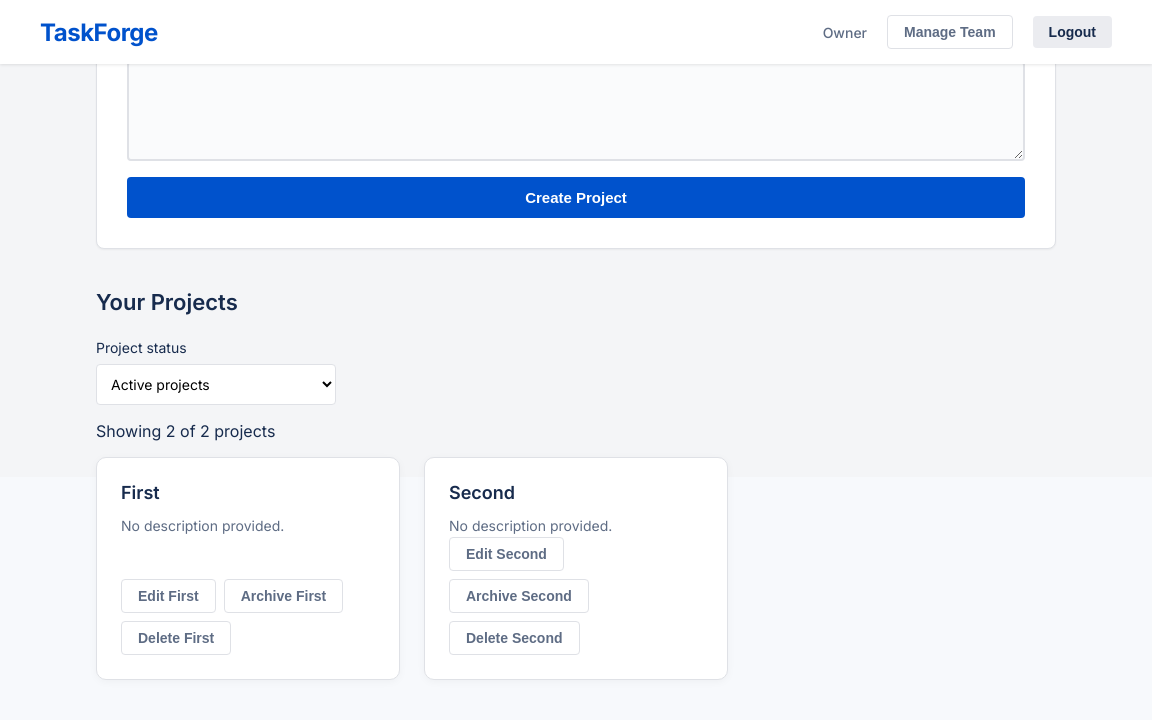
Test case: does not duplicate a task when its create response arrives during a later visit
The width and height of the screenshot is (1152, 720).
(page scrolled)
Click the button with aria-label "Open First" at point(140, 492), box [121,482,160,503]
(page scrolled)
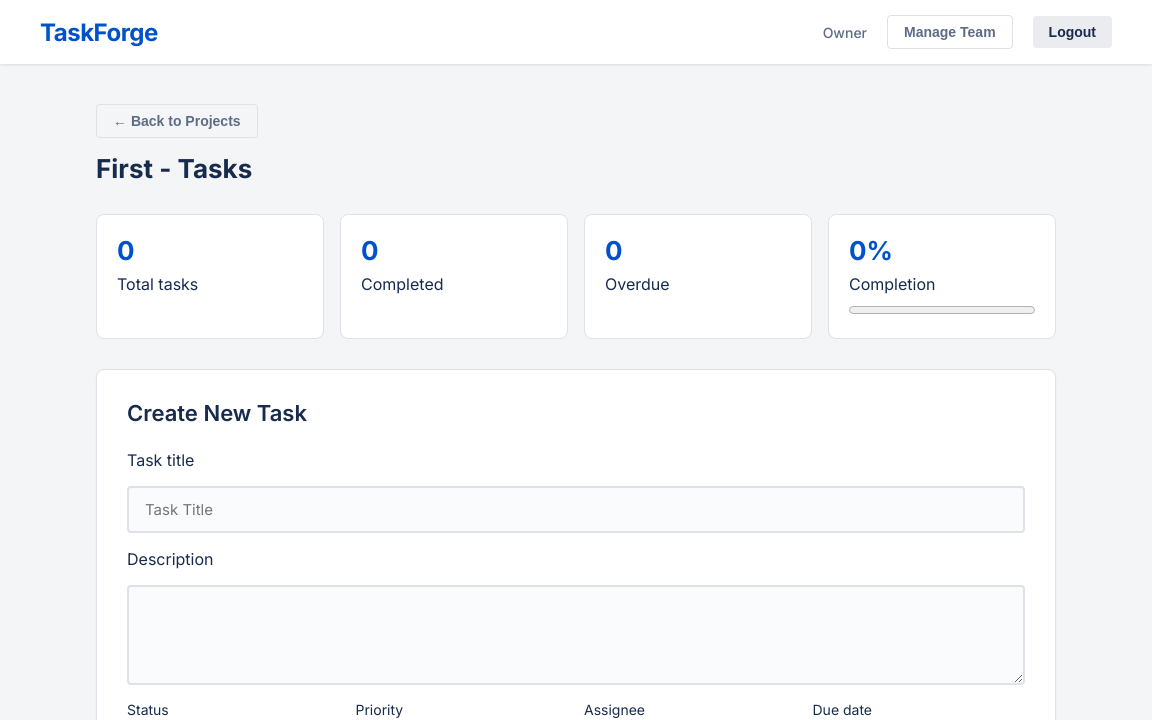
Type "Created once" into the field with placeholder "Task title" at point(576, 510), box [127,486,1025,533]
(page scrolled)
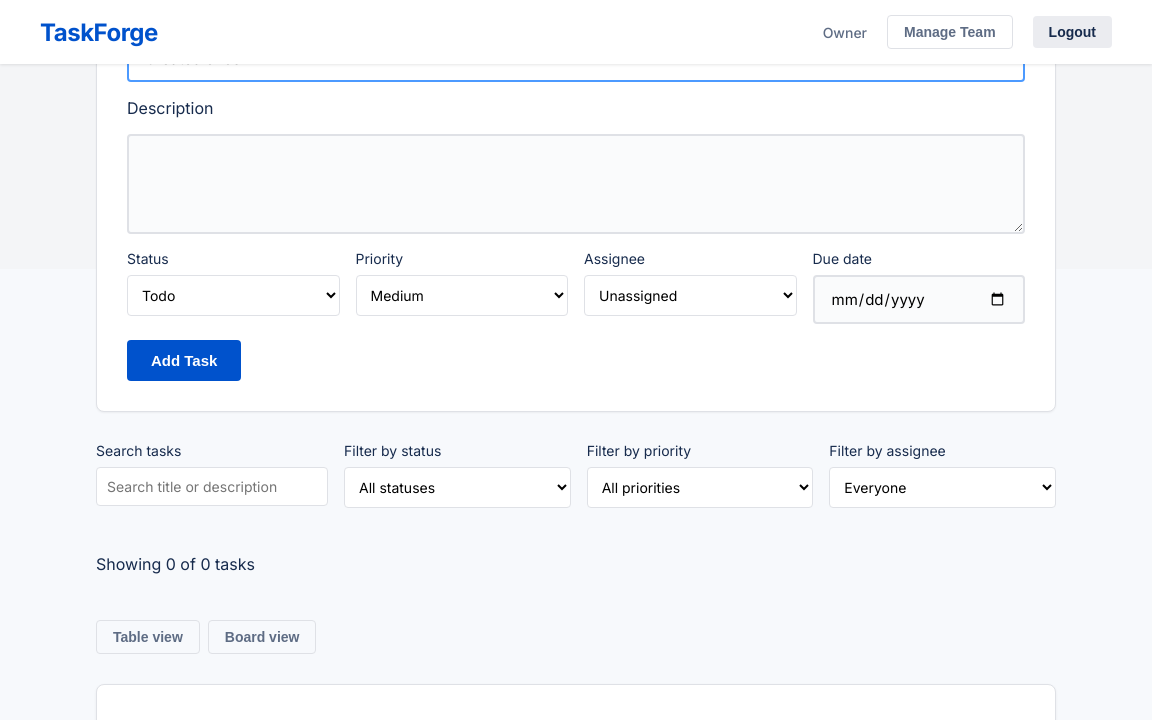
Click the button "Add Task" at point(184, 360), box [127,340,241,381]
(page scrolled)
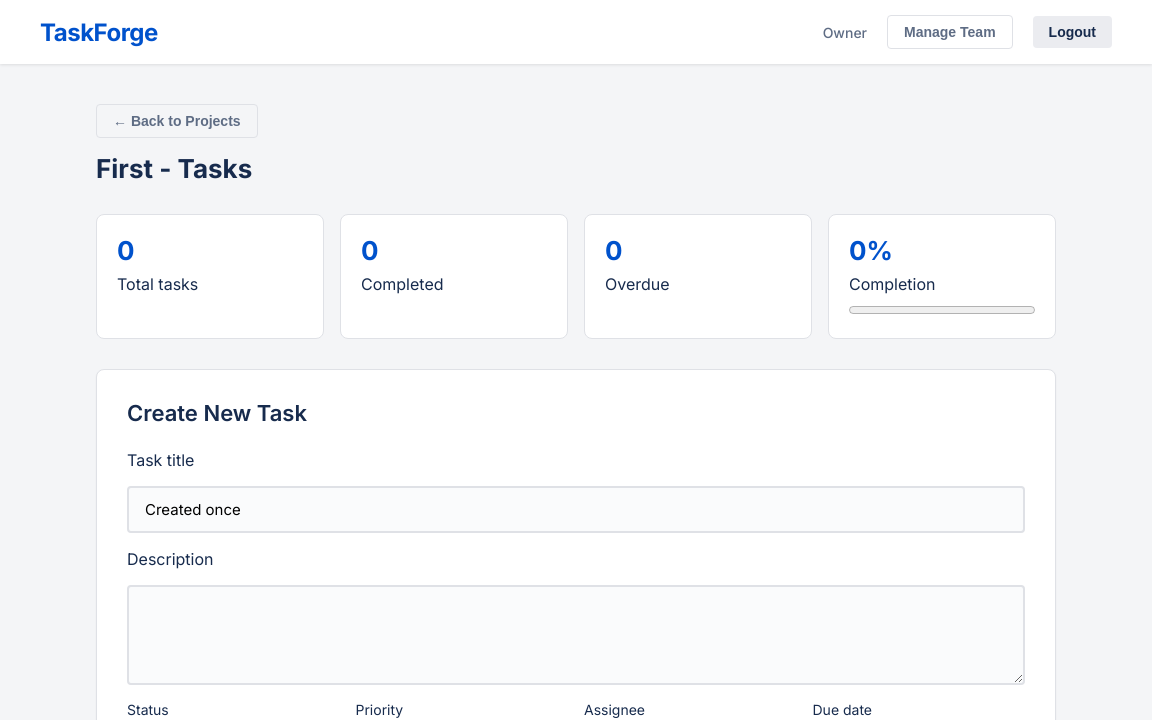
Click the button "← Back to Projects" at point(177, 121), box [96,104,258,138]
(page scrolled)
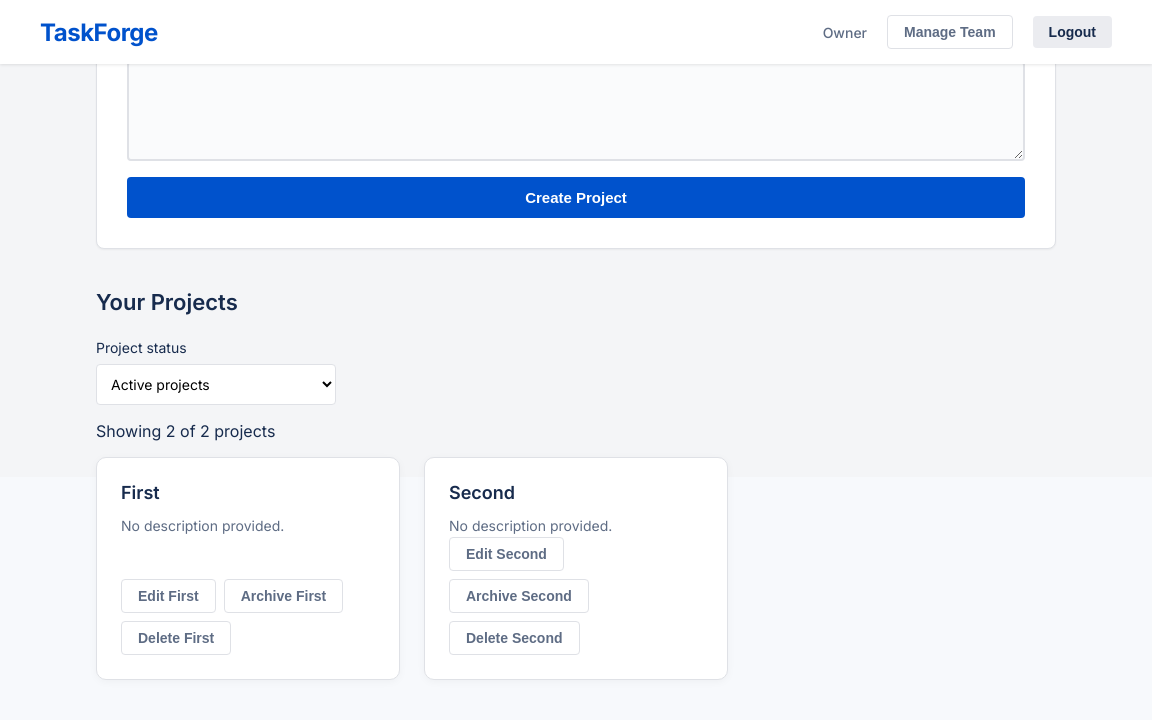
Click the button with aria-label "Open First" at point(140, 492), box [121,482,160,503]
(page scrolled)
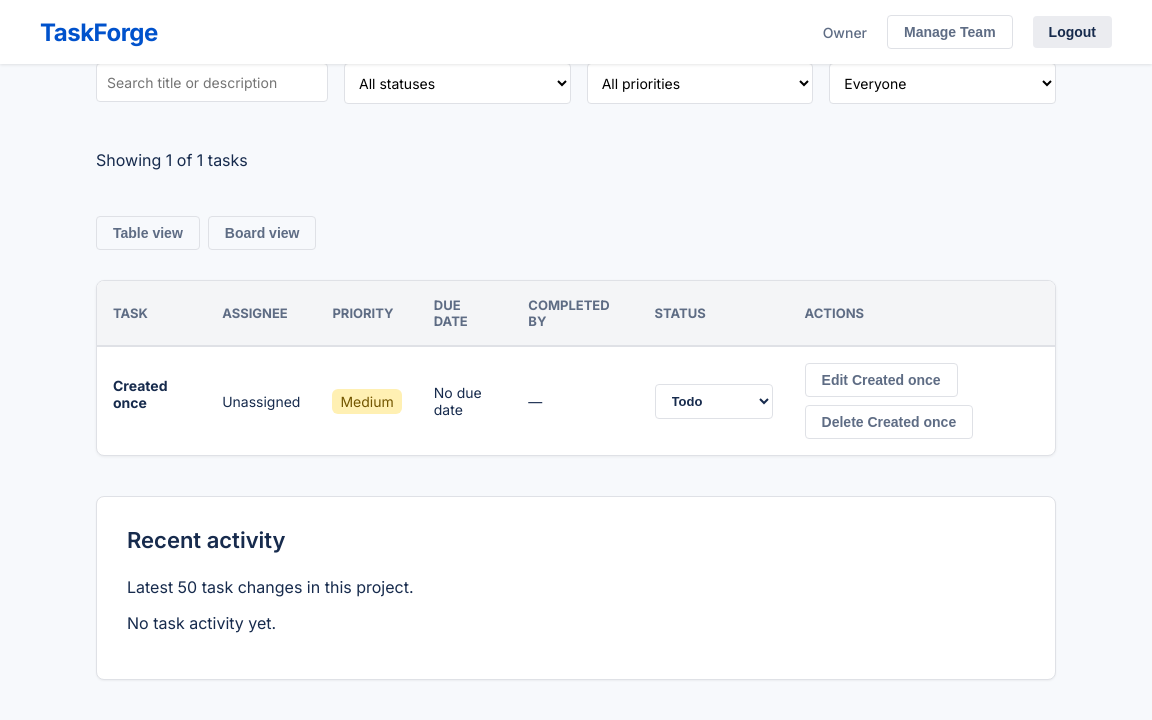
Expected: the text "Created once" is shown once, [113,377,168,411]
